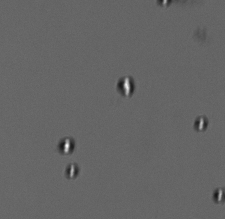Living Cell: (114, 75, 136, 98), (56, 136, 77, 154), (63, 162, 82, 180), (193, 115, 209, 133), (155, 1, 171, 7)
